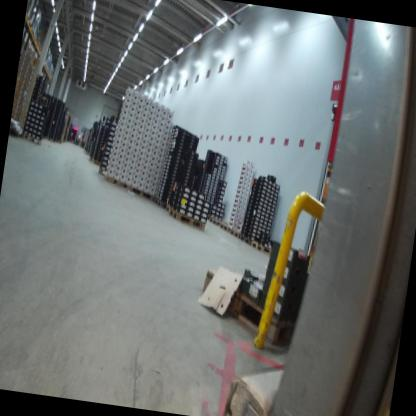pallet: (195, 260, 316, 353), (167, 206, 209, 231), (100, 170, 133, 191), (127, 182, 157, 200), (250, 237, 274, 256), (21, 130, 44, 148), (223, 224, 241, 238), (216, 215, 229, 230), (238, 233, 252, 246), (206, 214, 221, 225), (96, 164, 107, 177), (165, 203, 174, 213), (90, 158, 102, 165)
